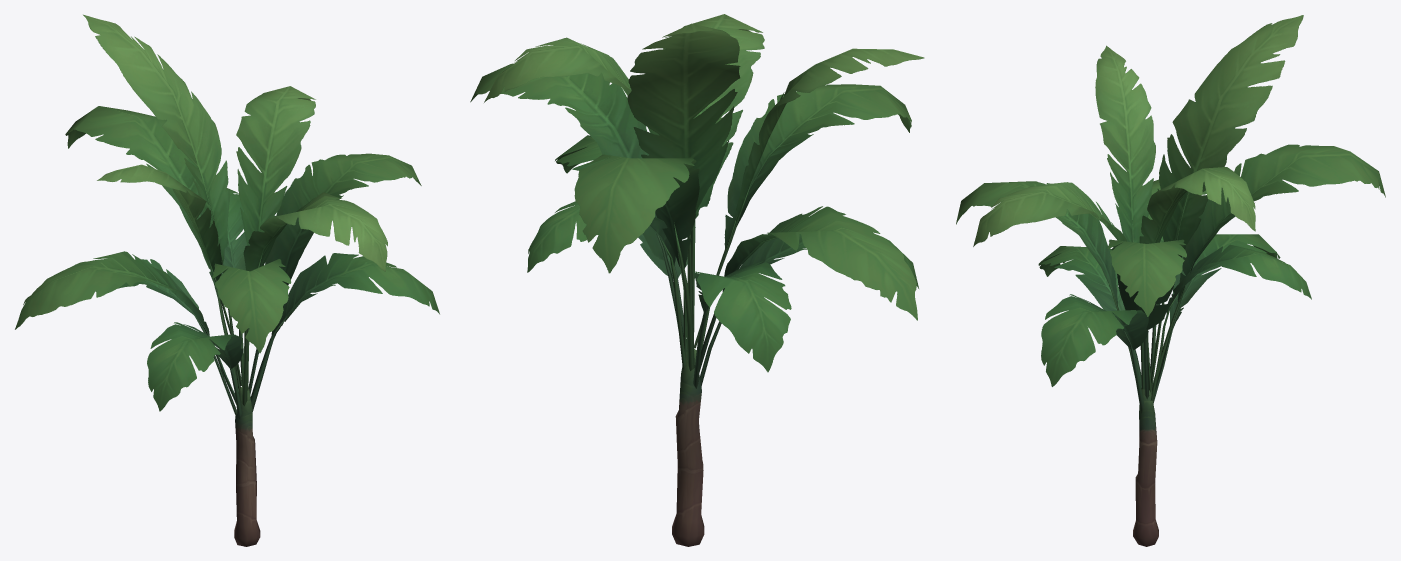
Rendered from zw_kmd_005_sm.FBX.
3 renders of one model, left to right at view 1: azimuth 30°, elevation 25°; view 2: azimuth 150°, elevation 25°; view 3: azimuth 270°, elevation 25°, orthographic. The views are drawn at different scales.
Visible parts, largest first — view 1: zw_kmd_005_sm; view 2: zw_kmd_005_sm; view 3: zw_kmd_005_sm.
Boxes of the visible parts, x1,y1,x2,y2 form: zw_kmd_005_sm: [15, 14, 439, 546]; zw_kmd_005_sm: [470, 14, 924, 546]; zw_kmd_005_sm: [956, 15, 1385, 546].
Size of the model in its own units: 4.48 by 5.45 by 4.38.
Materials: 1 (1 with a texture image).
